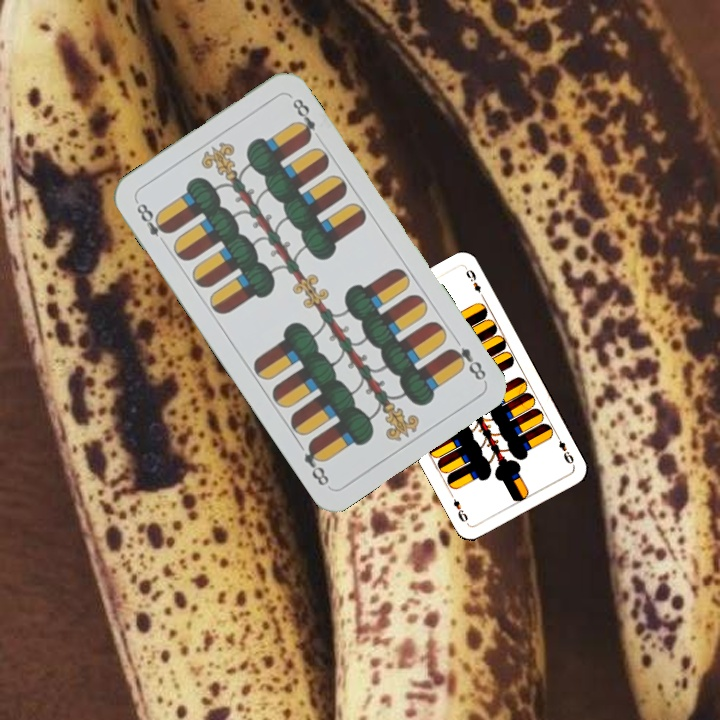E8: (444, 343, 489, 384), (132, 197, 173, 240)
E9: (552, 430, 576, 467)
